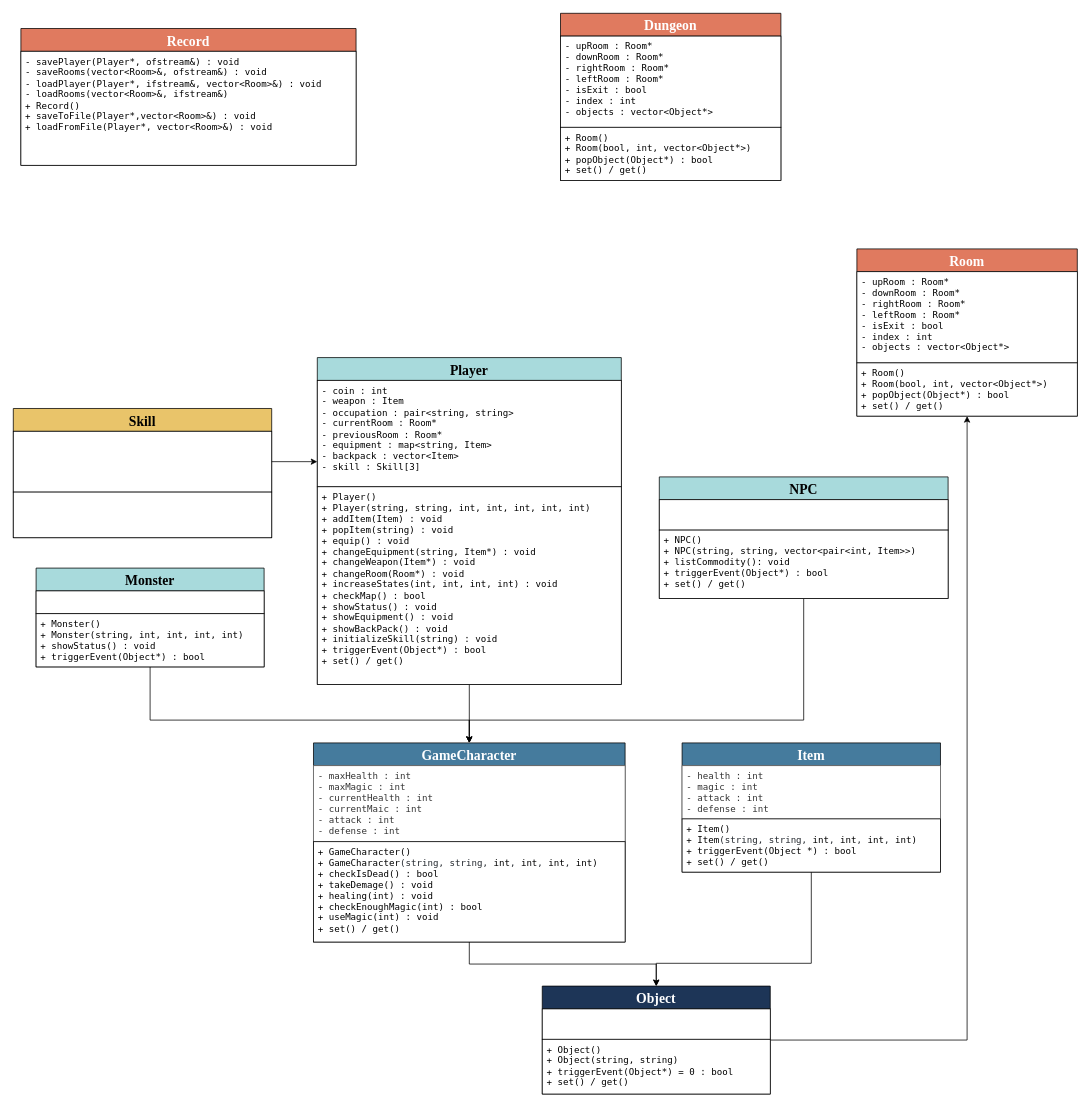
Some shapes in this 1091 by 1110 pixel diagram are drawn without their labels. Each missing label, with the centre of its shape:
+ Skill() + Skill(string, string, int, int, string) + set() / get(): point 142,514
- fight : const string: point 149,602
- name : string - tag : string: point 656,1023
- script : string - commodity : vector<pair<int, Item>>: point 803,514
- skillName : string - script : string - type : pair<string, int> - MP : int: point 142,461
